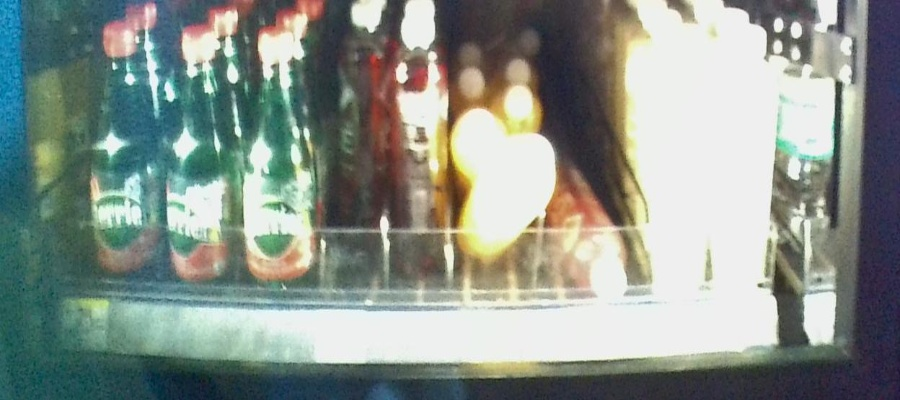bottle: (166, 8, 240, 288), (244, 21, 314, 295), (89, 15, 161, 278), (387, 5, 452, 265), (330, 4, 381, 236)
